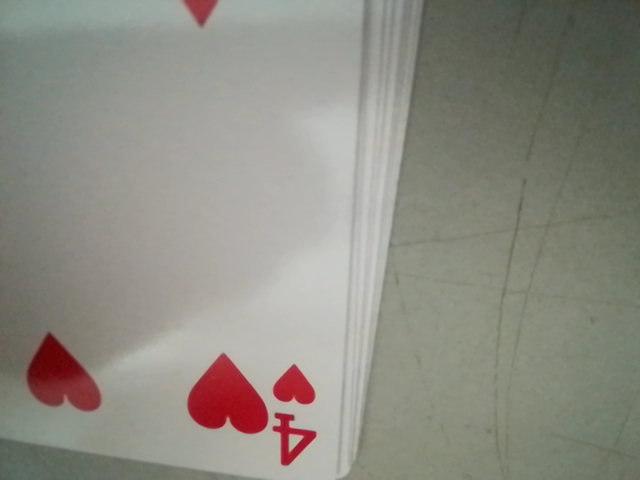hx 4: (268, 361, 323, 466)
